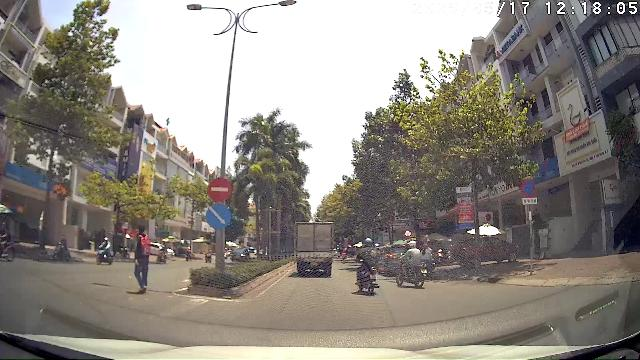102-cam-di-nguoc-chieu: (207, 176, 231, 202)
131a-cam-do-xe: (521, 179, 537, 197)
302a-huong-phai-di-vong-chuong-ngai-vat-1: (206, 203, 230, 229)
